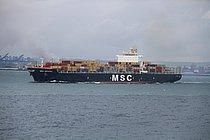Ship: (25, 46, 185, 87)
